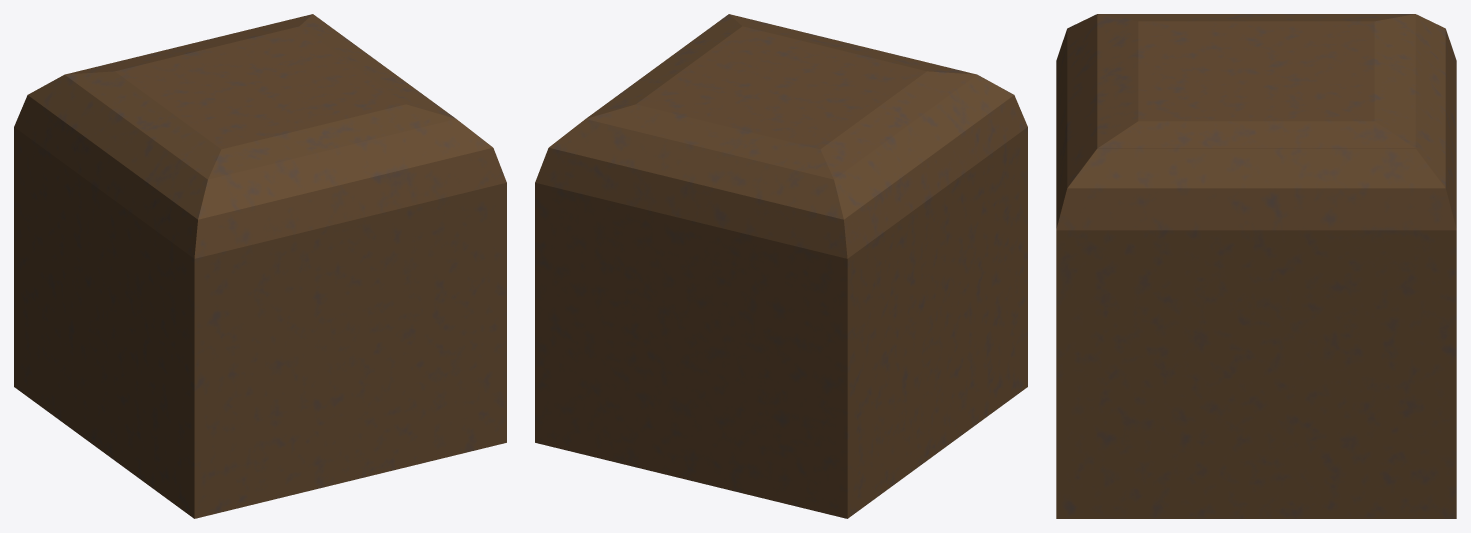
The model's file is DirtBlock.fbx.
3 views of the same model, side by side, from view 1: azimuth 30°, elevation 25°; view 2: azimuth 150°, elevation 25°; view 3: azimuth 270°, elevation 25° (orthographic). The views are drawn at different scales.
Visible parts, largest first — view 1: Cube; view 2: Cube; view 3: Cube.
Boxes of the visible parts, x1,y1,x2,y2 form: Cube: (14,14,506,518); Cube: (535,14,1027,518); Cube: (1056,14,1456,518).
Size of the model in its own units: 200 by 200 by 200.
1 material, 1 textured.
